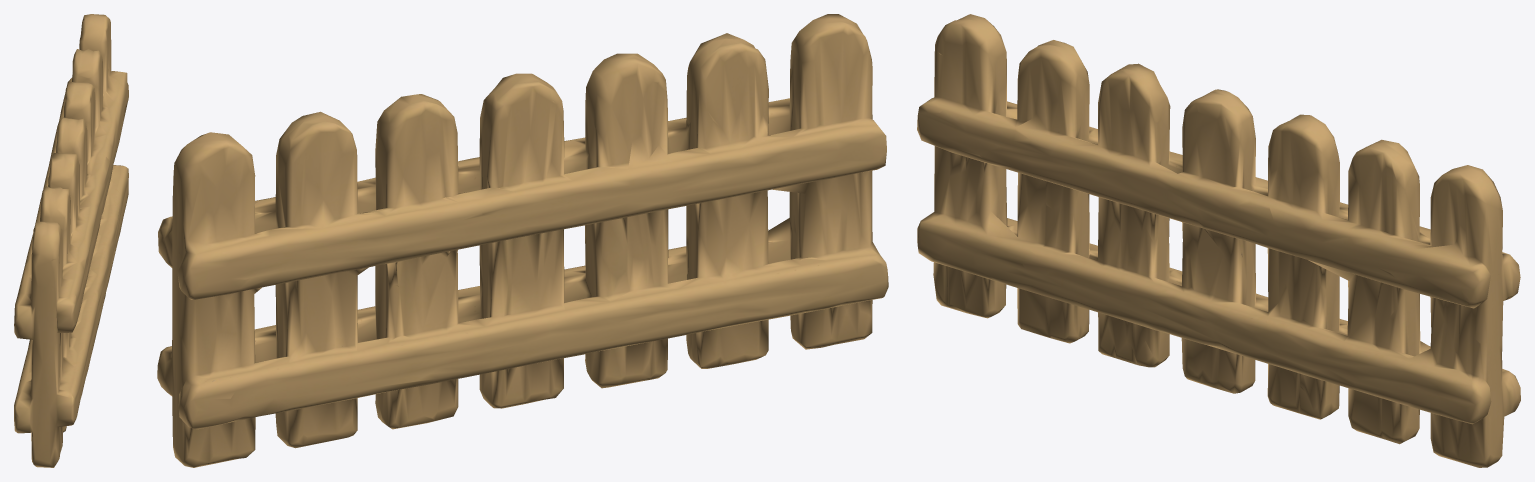
File: fence.glb
3 renders of one model, left to right at view 1: azimuth 30°, elevation 25°; view 2: azimuth 150°, elevation 25°; view 3: azimuth 270°, elevation 25°, orthographic. The views are drawn at different scales.
Visible parts, largest first — view 1: tripo_node_d327227c-d5fb-4d1a-83a4-5932de7ee6eb; view 2: tripo_node_d327227c-d5fb-4d1a-83a4-5932de7ee6eb; view 3: tripo_node_d327227c-d5fb-4d1a-83a4-5932de7ee6eb.
Part boxes in pixels (box(x1,y1,x2,y2)): tripo_node_d327227c-d5fb-4d1a-83a4-5932de7ee6eb: box(14, 14, 128, 467); tripo_node_d327227c-d5fb-4d1a-83a4-5932de7ee6eb: box(157, 14, 888, 467); tripo_node_d327227c-d5fb-4d1a-83a4-5932de7ee6eb: box(917, 14, 1520, 467).
Size of the model in its own units: 0.7626 by 0.5296 by 1.
1 material, 1 textured.
